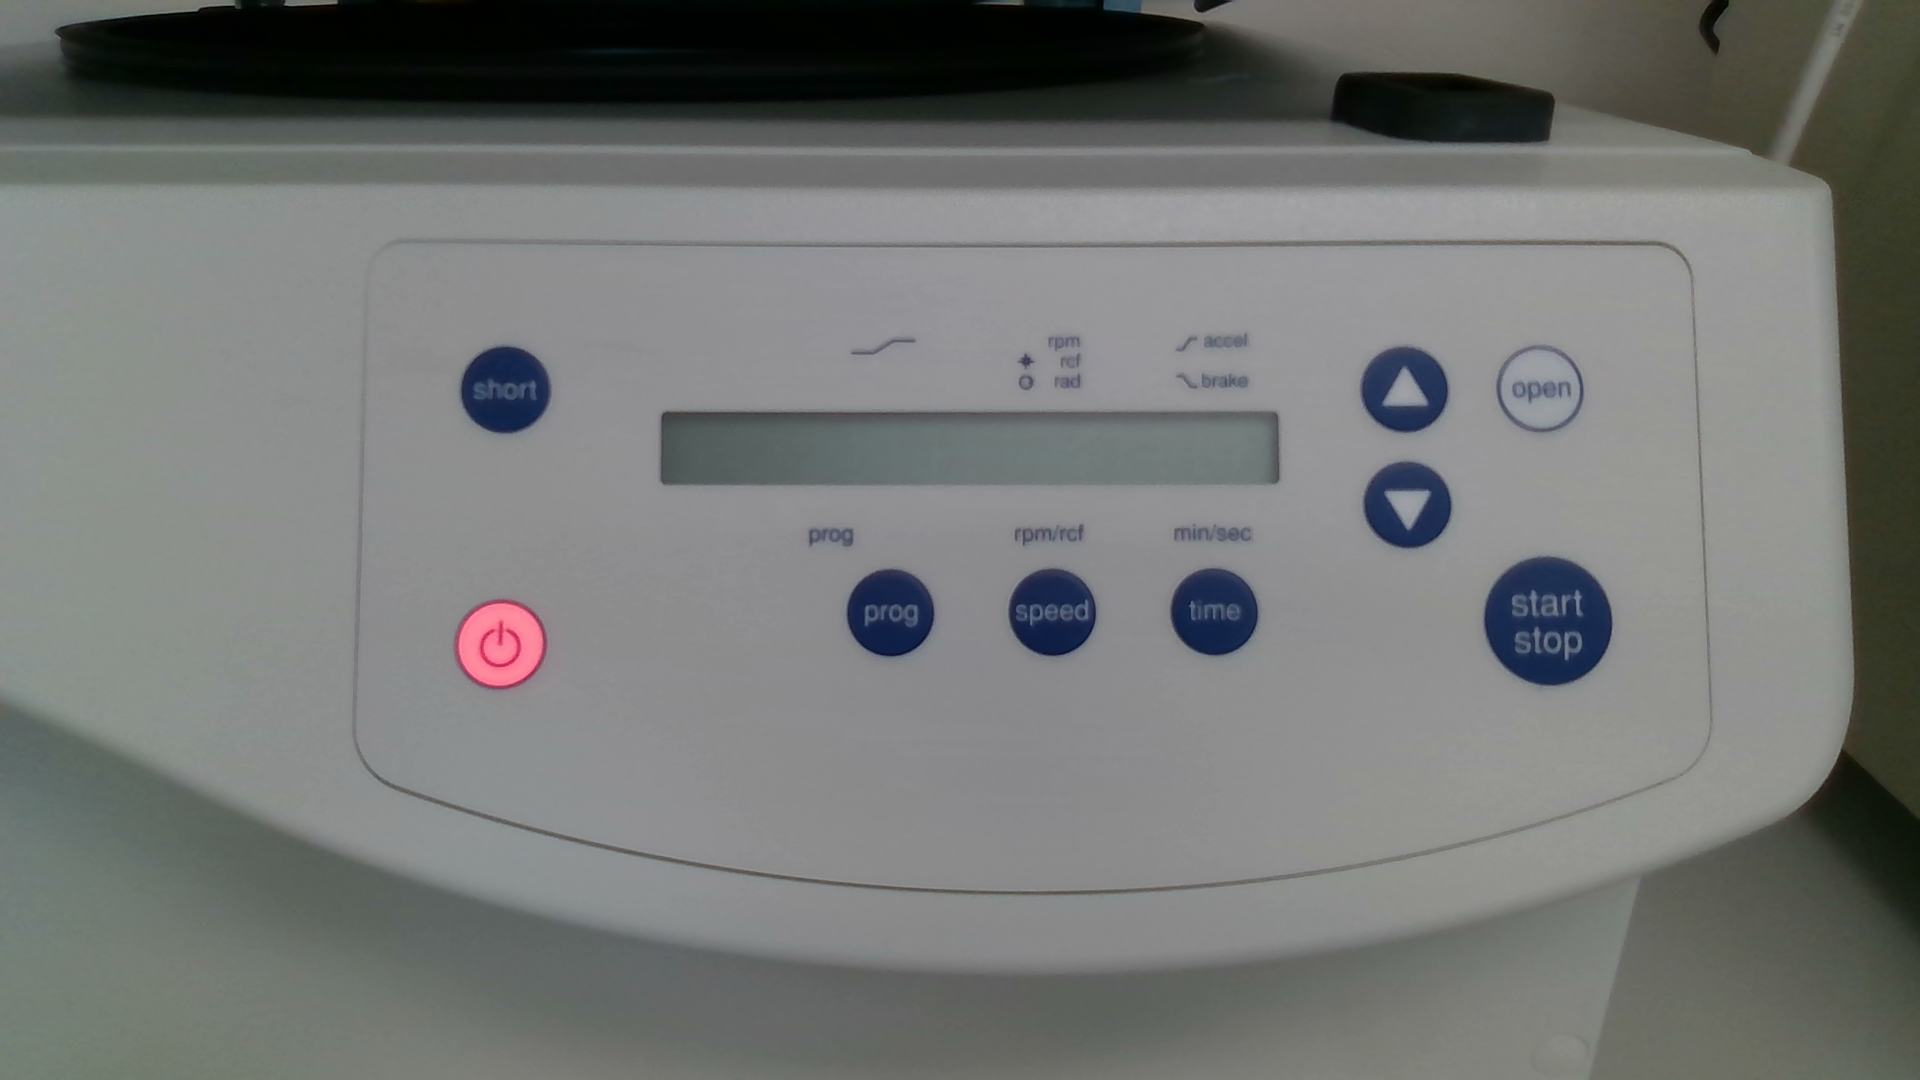open_off: (1495, 343, 1585, 433)
power_off: (454, 597, 549, 690)
